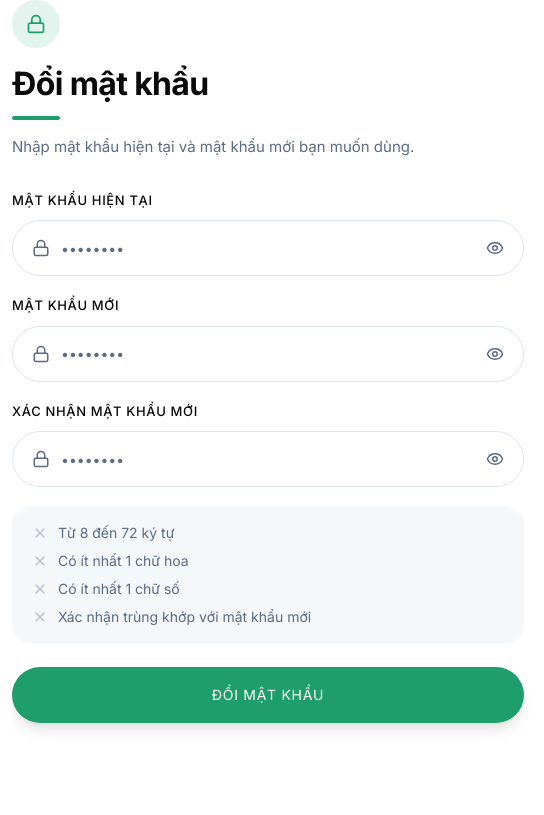
Test: ChangePasswordForm › đổi tự nguyện — vẫn hiện và bắt buộc ô mật khẩu hiện tại
expect the password field labelled "Mật khẩu hiện tại" is shown: met, box [12,220,524,276]
Type "Valid123" into the password field labelled "Mật khẩu mới" at x=268, y=354, box [12,326,524,382]
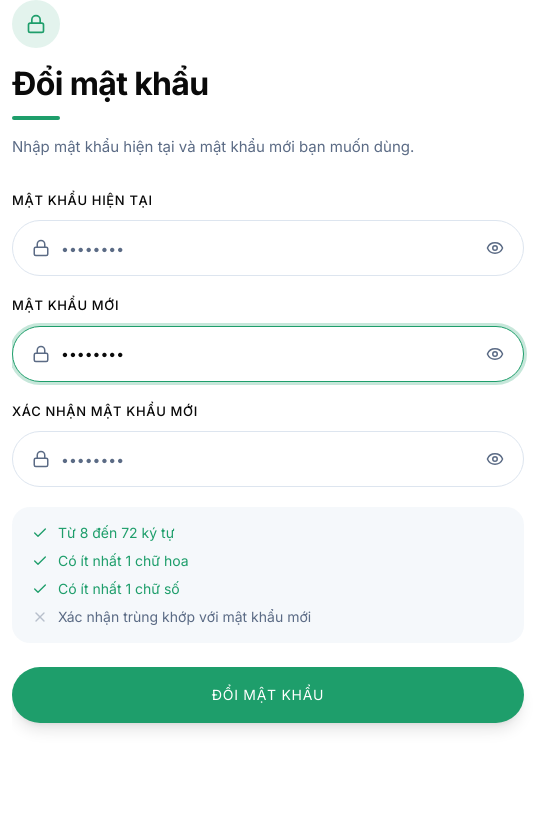
Type "Valid123" into the password field labelled "Xác nhận mật khẩu mới" at x=268, y=459, box [12,431,524,487]
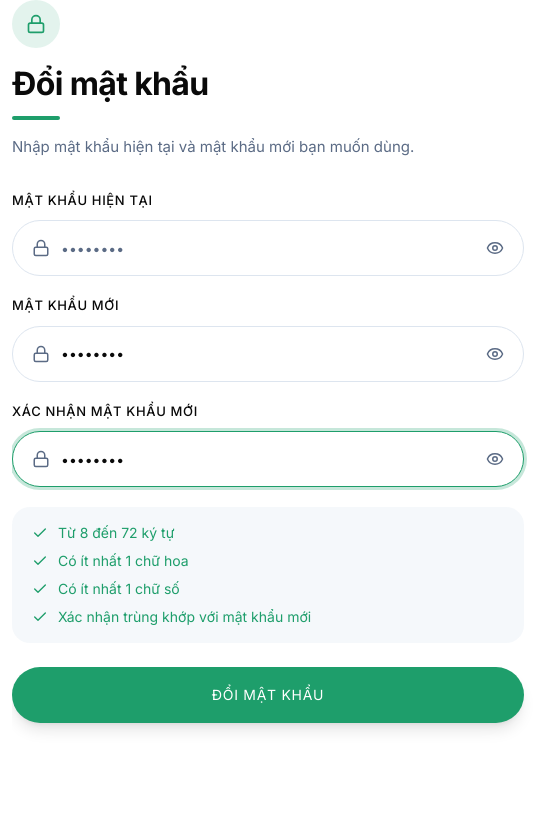
Click the button "Đổi mật khẩu" at x=268, y=695, box [12,667,524,723]
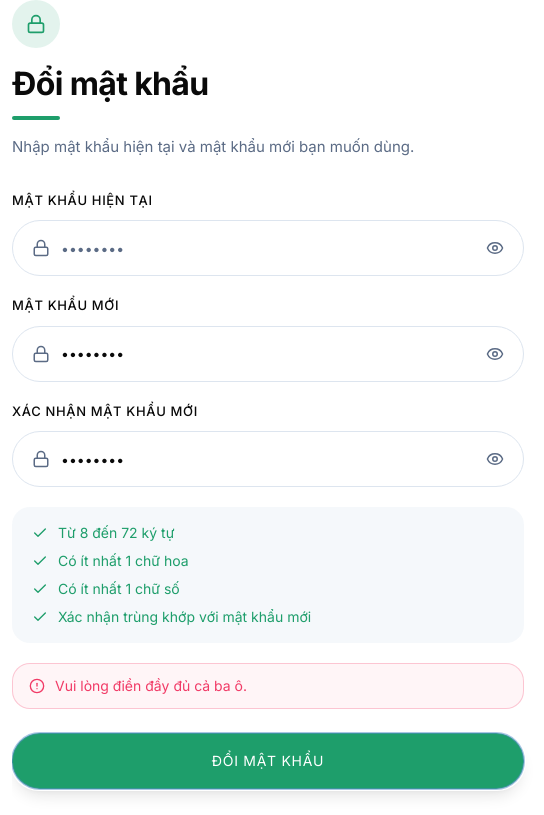
expect the text "Vui lòng điền đầy đủ cả ba ô." is shown: met, box [55,676,247,696]
